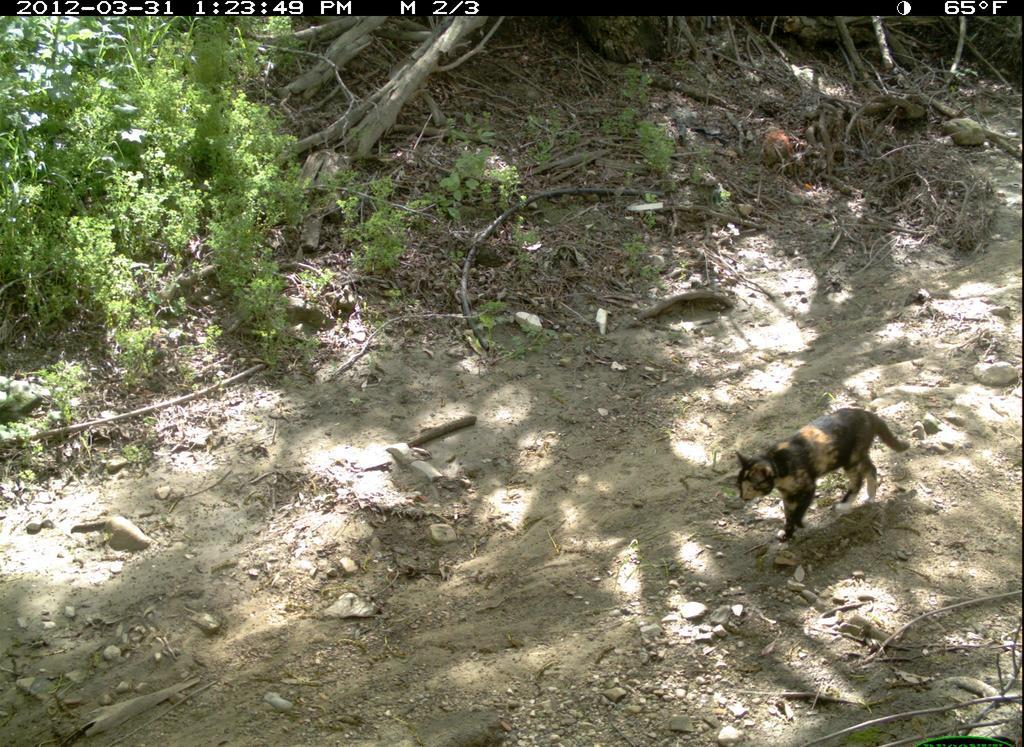cat: (729, 404, 916, 548)
